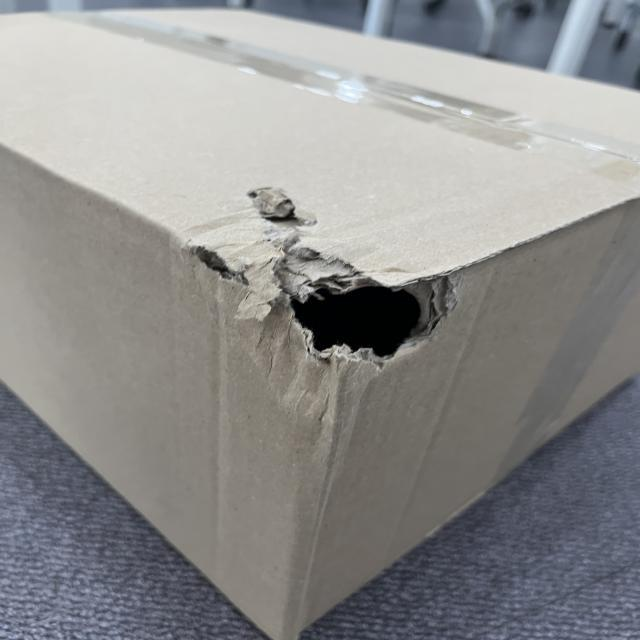hole: (189, 190, 456, 367)
